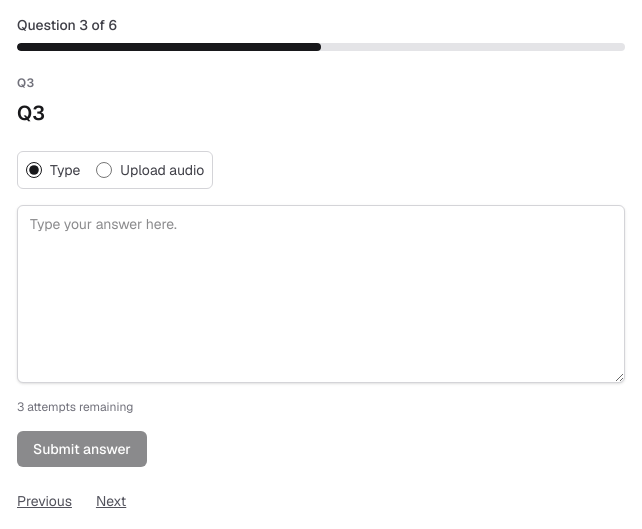
navigates back and forward between questions
The image size is (642, 529).
Expected: the text "Question 3 of 6" is shown, [17, 16, 117, 34]
Click the button "Previous".
click(44, 501)  # box [17, 491, 72, 511]
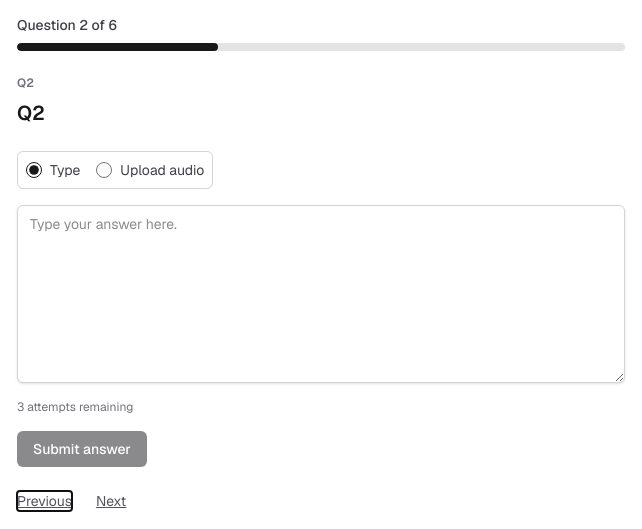
Result: the text "Question 2 of 6" is shown at [17, 16, 117, 34]
Click the button "Next".
click(111, 501)  # box [96, 491, 126, 511]
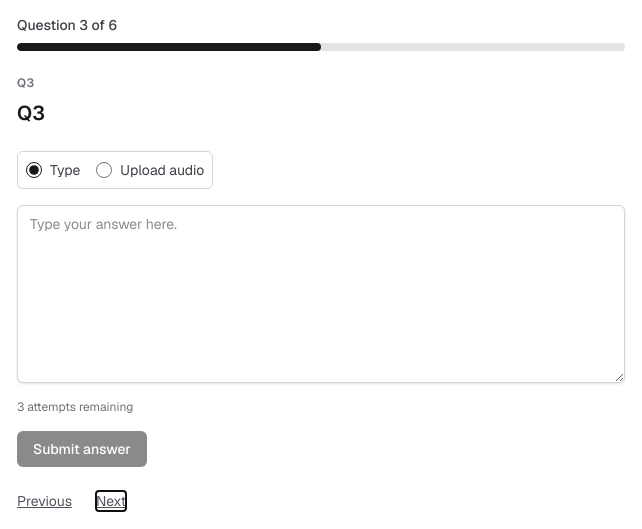
Result: the text "Question 3 of 6" is shown at [17, 16, 117, 34]
